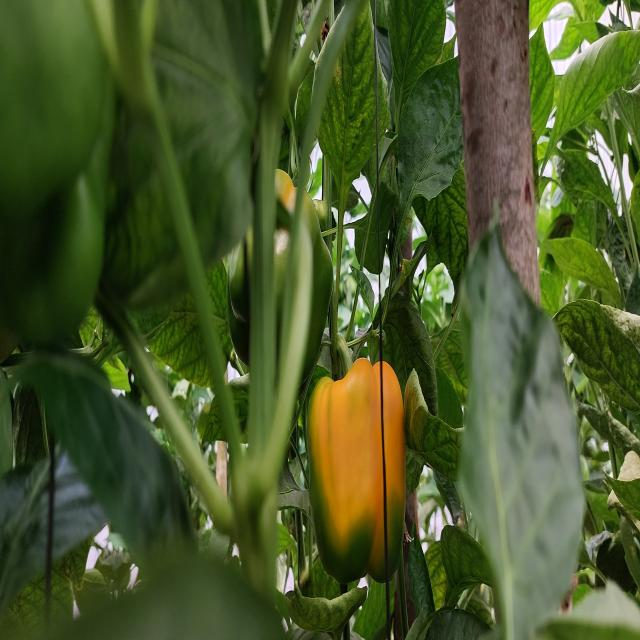Yellow-Ready-to-Harvest: (306, 361, 407, 556)
